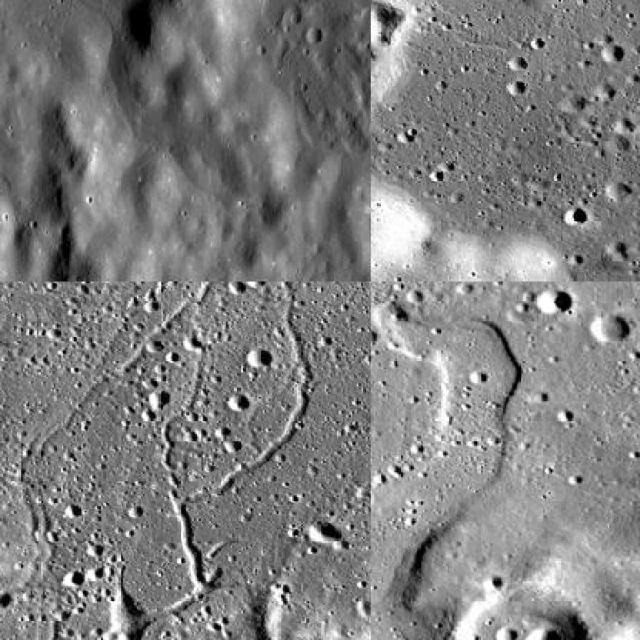rille: (0, 282, 369, 638), (108, 282, 315, 638), (371, 303, 526, 599), (530, 0, 638, 280), (160, 345, 209, 489), (0, 0, 129, 49)
